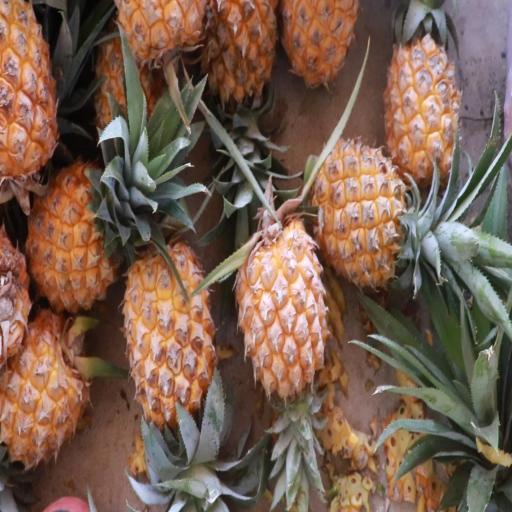Pineapple - v8 v1: (233, 214, 333, 418), (119, 237, 219, 440), (310, 128, 423, 293), (0, 294, 95, 469), (26, 151, 120, 319), (382, 0, 461, 198), (276, 2, 364, 92)
